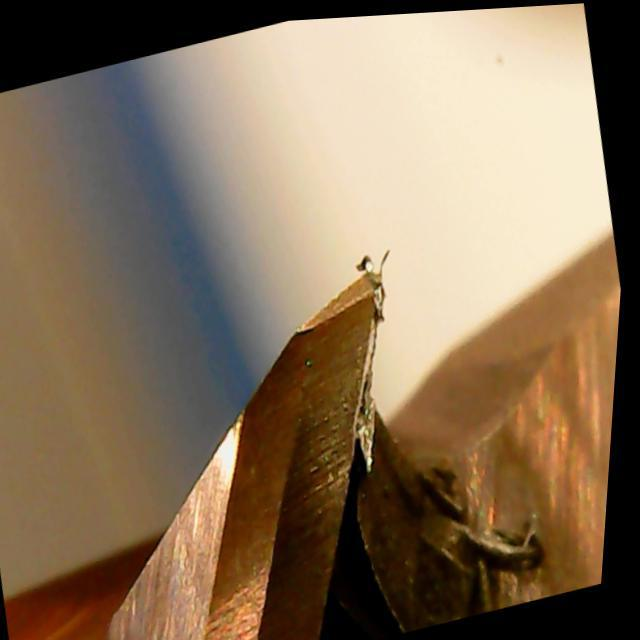Tool-wear-class-2: (214, 234, 458, 589)
